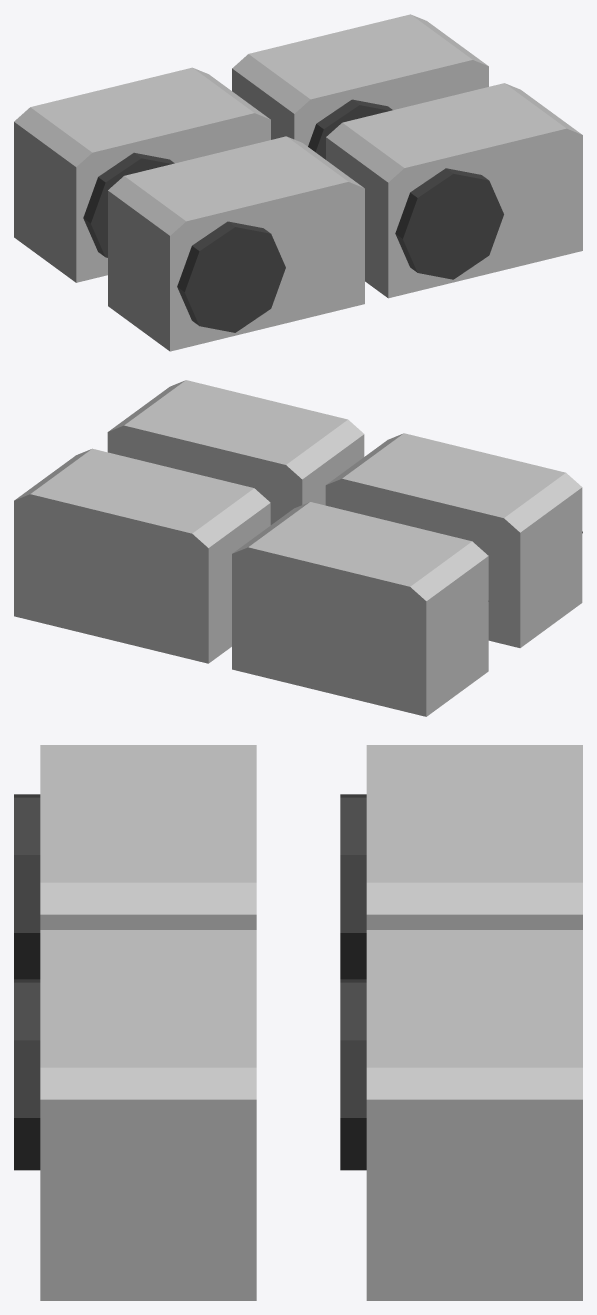
The model's file is AC_Unitx4.glb.
3 views of the same model, one above another, from view 1: azimuth 30°, elevation 25°; view 2: azimuth 150°, elevation 25°; view 3: azimuth 270°, elevation 25° (orthographic). The views are drawn at different scales.
Visible parts, largest first — view 1: AC_Unitx4; view 2: AC_Unitx4; view 3: AC_Unitx4.
Part boxes in pixels (box(x1,y1,x2,y2)): AC_Unitx4: box(14, 14, 582, 351); AC_Unitx4: box(14, 380, 582, 716); AC_Unitx4: box(14, 745, 582, 1300).
Bounding box in the file's own units: 0.6048 × 0.1767 × 0.4153.
Materials: 1 (1 with a texture image).
